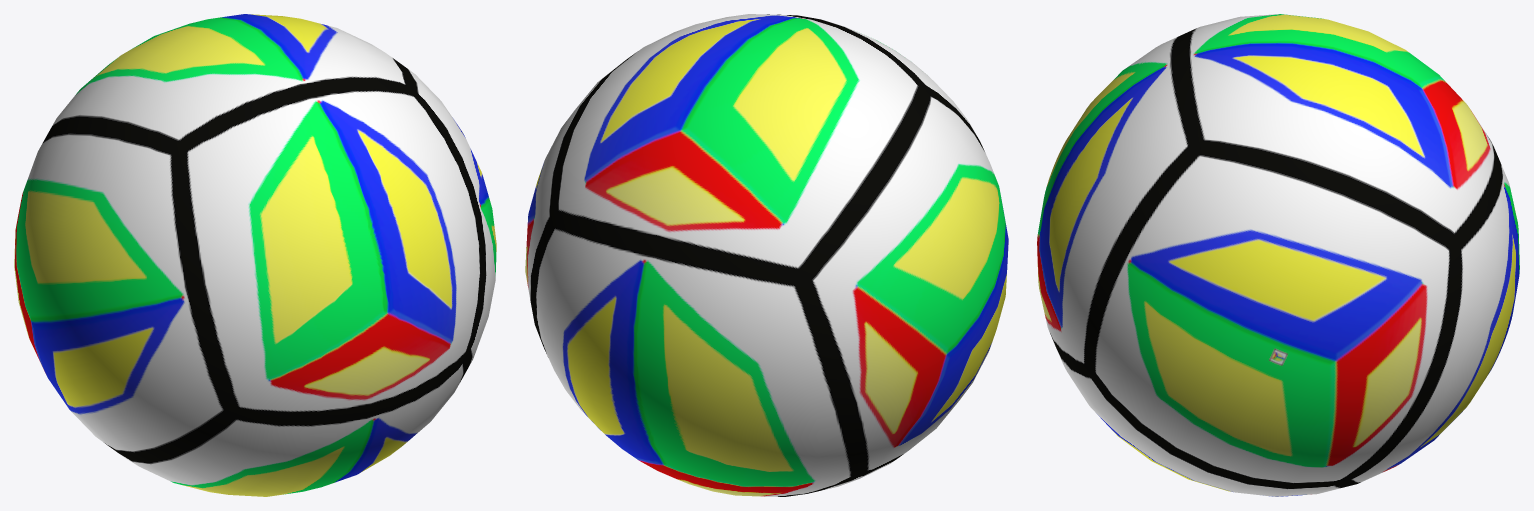
File: cadball.glb
3 views of the same model, side by side, from view 1: azimuth 30°, elevation 25°; view 2: azimuth 150°, elevation 25°; view 3: azimuth 270°, elevation 25° (orthographic).
Visible parts, largest first — view 1: scene(14).glb; view 2: scene(14).glb; view 3: scene(14).glb.
Part boxes in pixels (x1,y1,x2,y2): scene(14).glb: (14, 14, 496, 496); scene(14).glb: (525, 14, 1008, 496); scene(14).glb: (1037, 14, 1519, 496).
Bounding box in the file's own units: 2 × 2 × 2.
1 material, 1 textured.
